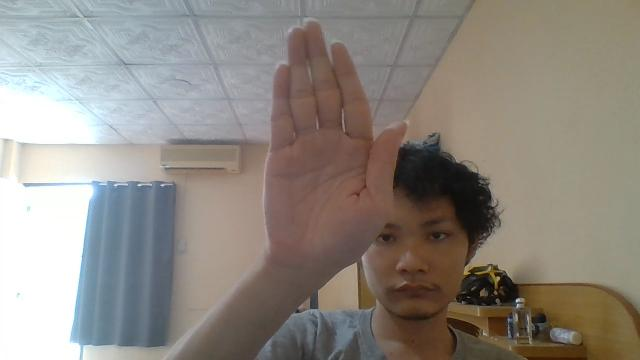Stop: (262, 19, 408, 289)
